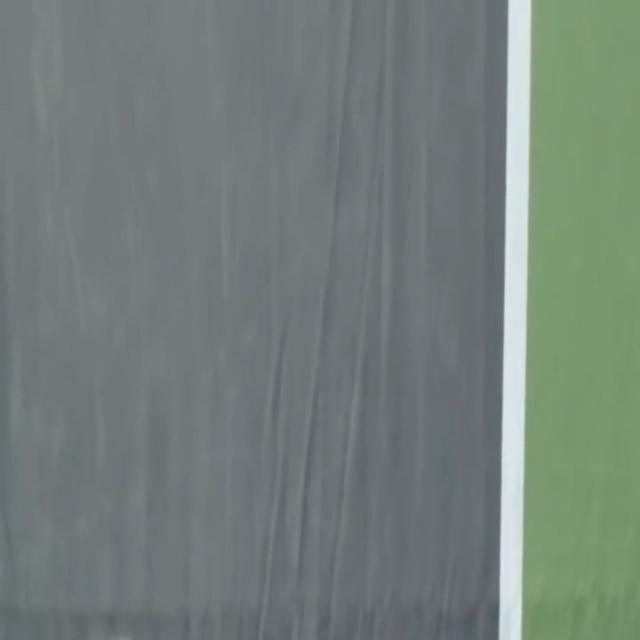right: (499, 0, 531, 639)
